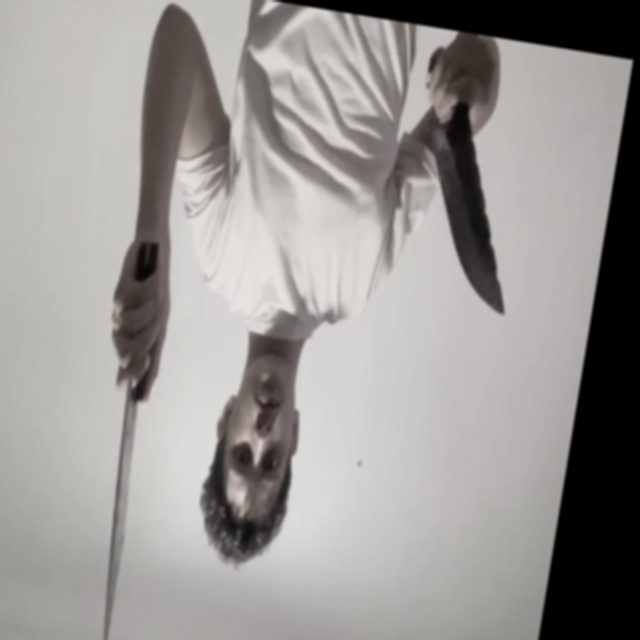Sharp-Object: (405, 126, 532, 318), (83, 386, 152, 640)
